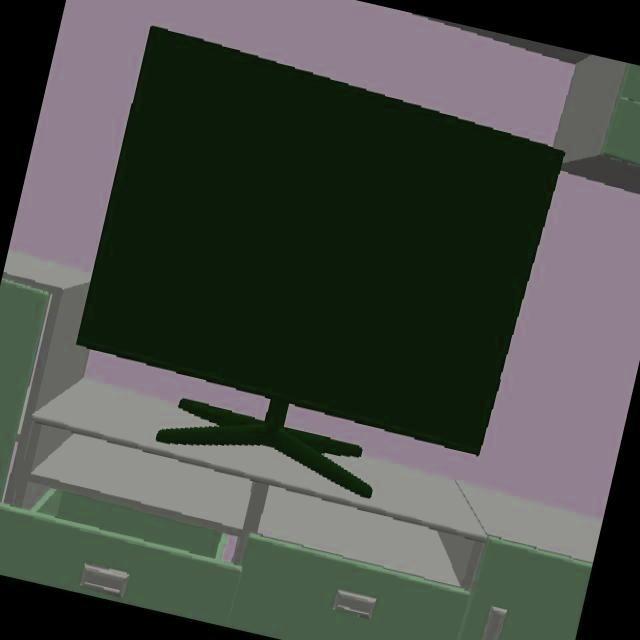cabinet: (0, 277, 602, 640), (554, 54, 640, 193)
monitor: (77, 27, 563, 496)
